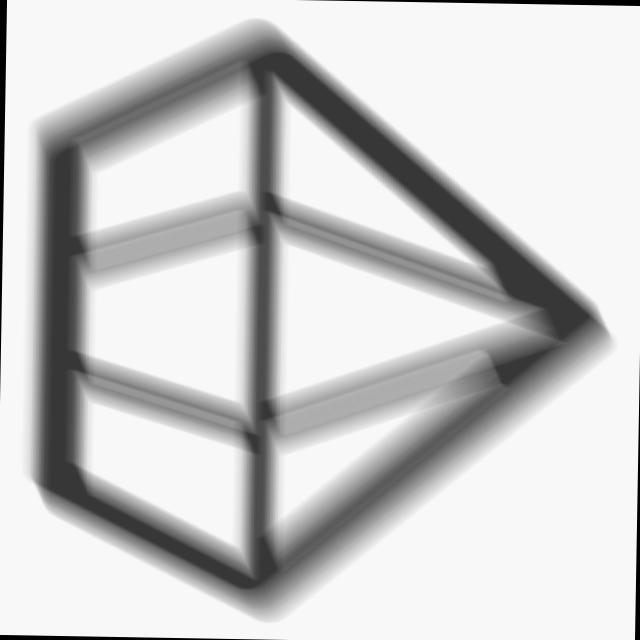diamond: (10, 1, 635, 640)
